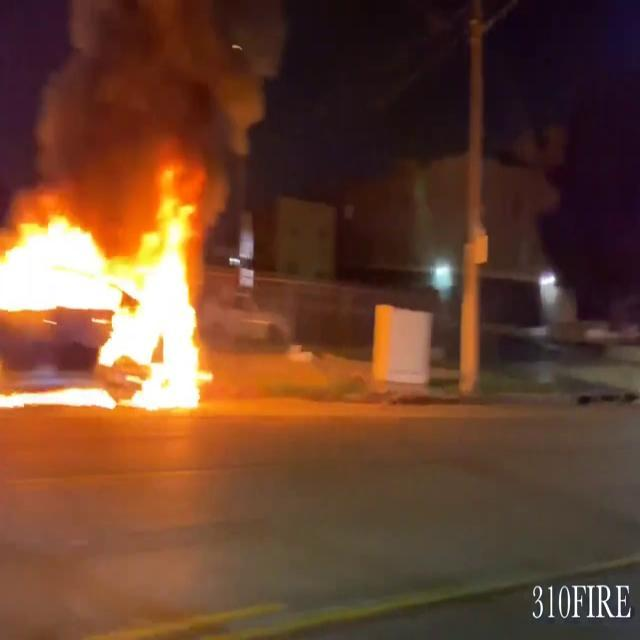Fire: (0, 164, 229, 414)
Smoke: (9, 1, 295, 210)
